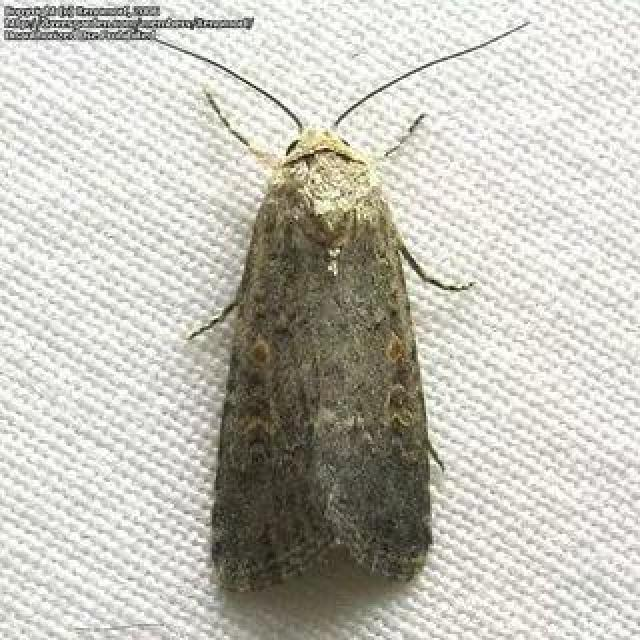BeetArmyWorm-Adult-: (134, 30, 544, 589)
